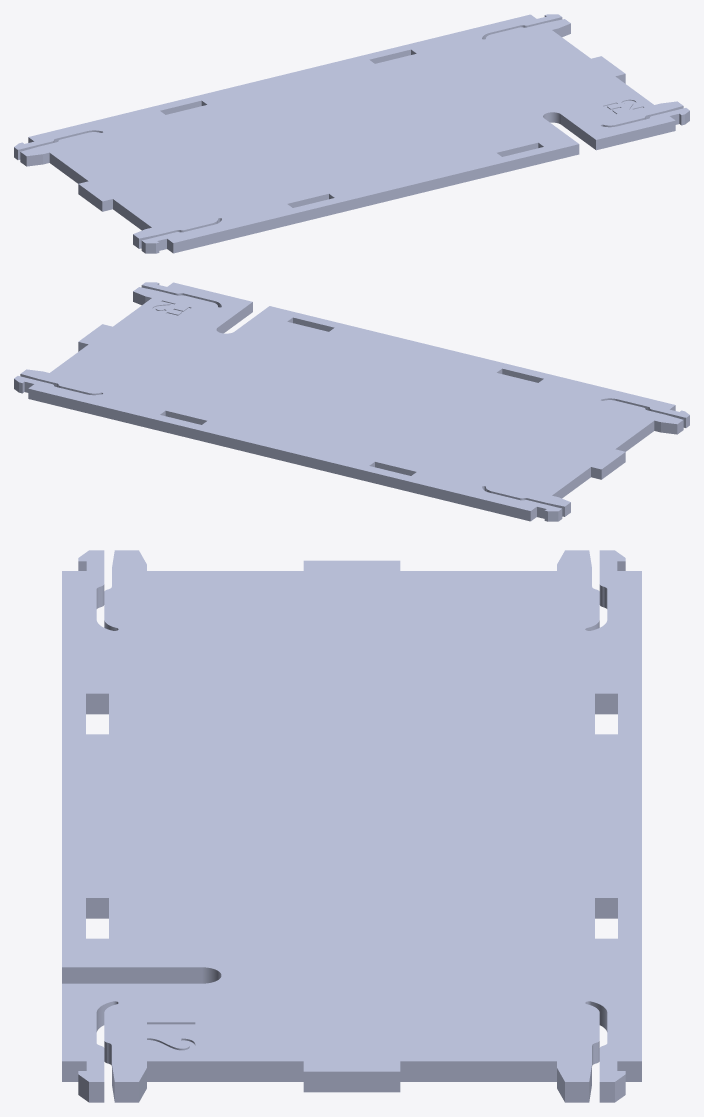
3 views of the same model, one above another, from view 1: azimuth 30°, elevation 25°; view 2: azimuth 150°, elevation 25°; view 3: azimuth 270°, elevation 25° (orthographic). The views are drawn at different scales.
Visible parts, largest first — view 1: F2; view 2: F2; view 3: F2.
Boxes of the visible parts, bbox=[...] form: F2: bbox=[14, 14, 689, 253]; F2: bbox=[14, 282, 689, 521]; F2: bbox=[62, 550, 641, 1102].
Size of the model in its own units: 0.1652 by 0.003 by 0.0762.
